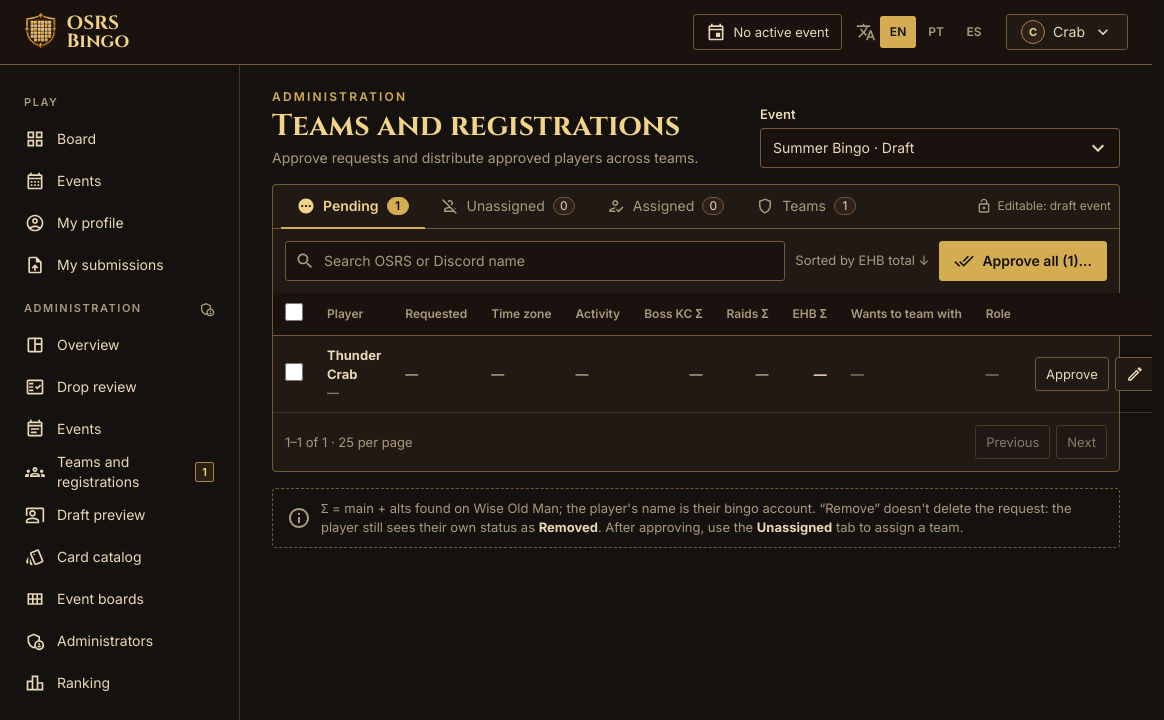
Scenario: shows approval conflicts without assigning a team
The width and height of the screenshot is (1164, 720).
Select "Summer Bingo · Draft" in the dropdown labelled "Event". click: coordinates (940, 148)
box: [760,128,1120,168]
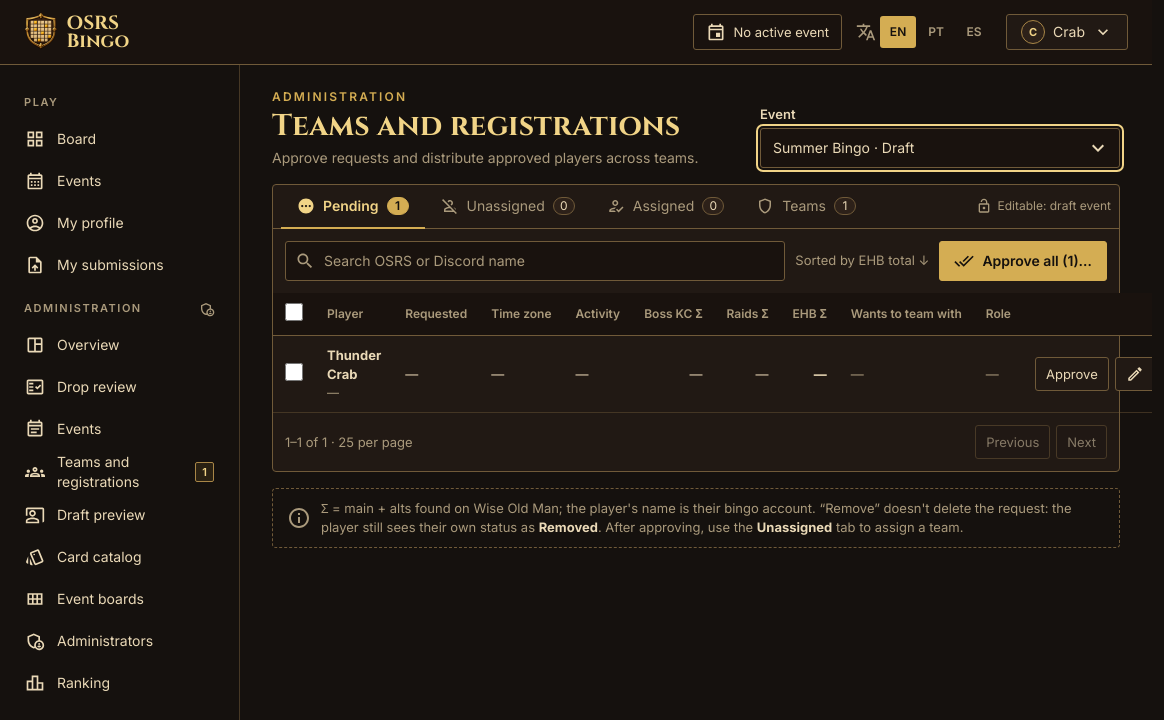
Click the button with aria-label "Approve Thunder Crab". click: coordinates (1072, 374)
box: [1035,357,1109,391]
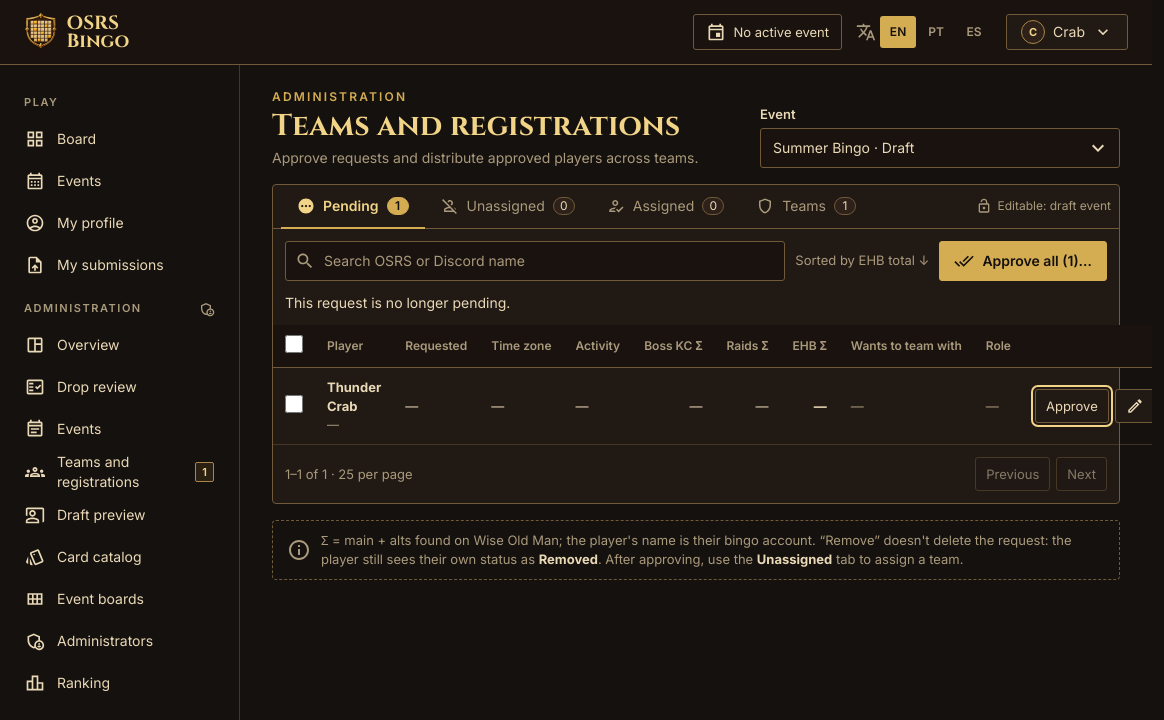
Now the text "This request is no longer pending." is shown, box [285,294,510,311]
